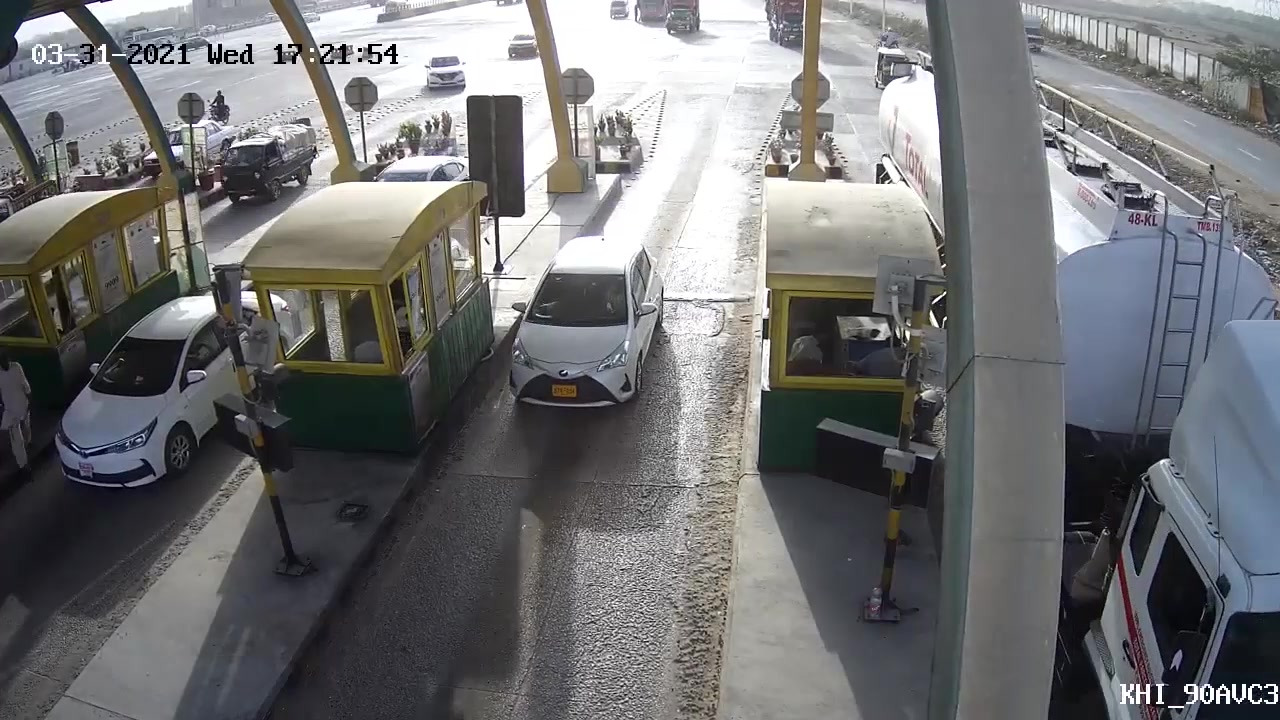F1: (487, 226, 689, 440)
